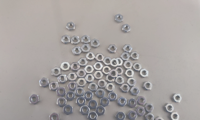nut: (29, 94, 40, 106), (39, 78, 50, 89), (94, 88, 106, 98), (83, 91, 95, 101), (172, 94, 183, 104), (64, 105, 74, 116), (56, 98, 67, 108), (118, 97, 129, 107), (128, 99, 139, 109), (67, 72, 78, 82), (80, 35, 91, 45), (94, 53, 106, 62), (165, 104, 175, 114), (68, 81, 78, 91), (137, 107, 147, 117), (96, 106, 106, 116), (88, 101, 98, 111), (76, 96, 86, 106), (77, 78, 87, 88), (71, 35, 81, 45), (110, 58, 120, 68), (116, 76, 126, 86), (113, 57, 123, 67), (49, 82, 60, 91), (60, 62, 71, 71), (130, 87, 141, 96), (139, 69, 150, 78), (100, 98, 111, 107), (88, 83, 99, 92), (75, 87, 86, 96), (93, 62, 104, 71), (91, 38, 100, 49), (115, 66, 126, 75), (122, 24, 132, 33), (115, 14, 125, 23), (108, 45, 118, 54), (66, 22, 76, 31), (62, 36, 72, 45), (72, 47, 82, 56), (58, 75, 68, 84), (128, 111, 138, 120), (127, 78, 137, 87), (121, 84, 131, 93), (80, 106, 89, 116), (71, 62, 80, 72), (94, 70, 103, 80), (106, 74, 116, 83), (98, 79, 107, 89), (81, 44, 91, 53), (77, 69, 87, 78), (88, 112, 99, 120), (123, 61, 134, 69), (86, 52, 97, 60), (52, 68, 61, 77), (138, 97, 147, 106), (126, 69, 135, 78), (85, 65, 94, 74), (171, 112, 181, 120), (56, 88, 66, 96), (116, 112, 126, 120), (144, 82, 154, 90), (145, 104, 155, 112), (109, 92, 117, 102), (133, 63, 143, 71), (106, 84, 116, 92), (145, 113, 156, 120), (123, 45, 134, 52), (131, 52, 140, 60), (122, 52, 131, 60), (85, 75, 95, 82), (109, 70, 119, 77), (49, 114, 60, 120), (103, 67, 111, 75), (105, 57, 111, 65), (155, 117, 165, 120)
